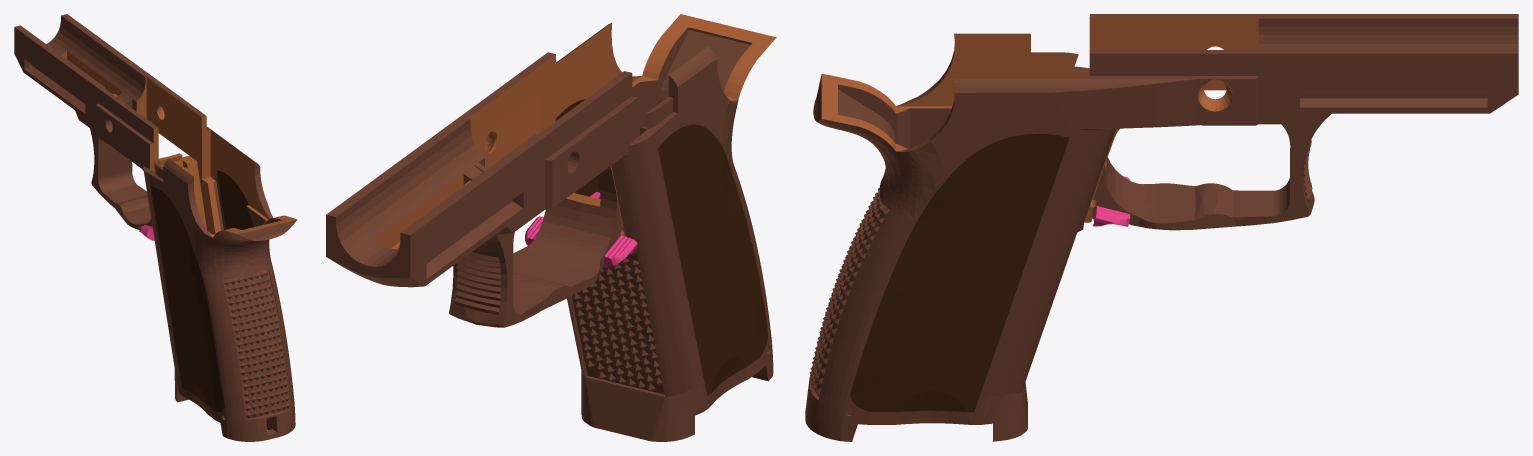
Rendered from hk_usp_compact_9mm.glb.
3 renders of one model, left to right at view 1: azimuth 30°, elevation 25°; view 2: azimuth 150°, elevation 25°; view 3: azimuth 270°, elevation 25°, orthographic. The views are drawn at different scales.
Visible parts, largest first — view 1: Compact frame, 0 Empuñadura, 1 Mecanismo Secundario; view 2: Compact frame, 0 Empuñadura, 1 Mecanismo Secundario, 13 Boton cargador; view 3: Compact frame, 0 Empuñadura, 1 Mecanismo Secundario.
Part boxes in pixels (left/top/right/bottom): Compact frame: left=14, top=14, right=297, bottom=441; 0 Empuñadura: left=14, top=16, right=295, bottom=441; 1 Mecanismo Secundario: left=90, top=93, right=206, bottom=229; Compact frame: left=326, top=14, right=776, bottom=441; 0 Empuñadura: left=326, top=23, right=773, bottom=441; 1 Mecanismo Secundario: left=449, top=166, right=624, bottom=327; 13 Boton cargador: left=525, top=192, right=637, bottom=267; Compact frame: left=805, top=14, right=1518, bottom=441; 0 Empuñadura: left=805, top=17, right=1518, bottom=441; 1 Mecanismo Secundario: left=1084, top=128, right=1315, bottom=230.
Bounding box in the file's own units: 30.98 × 102 × 172.
